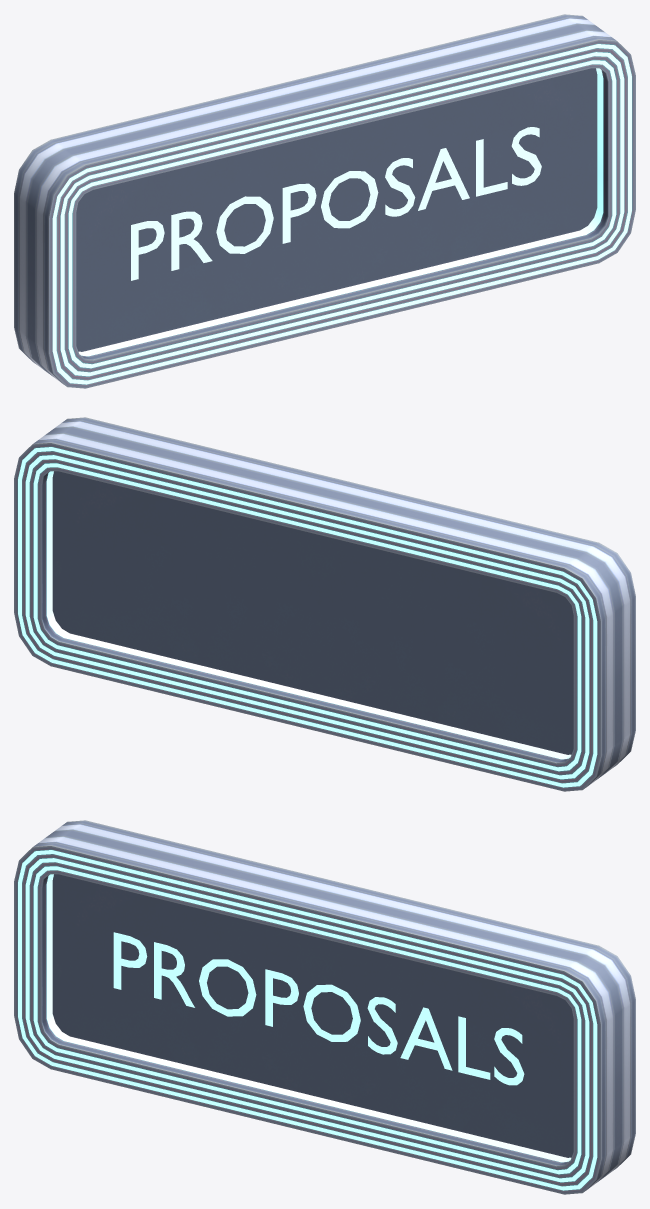
The model's file is obj_proposals.gltf.
The picture shows the model from 3 angles, top to bottom: view 1: azimuth 30°, elevation 25°; view 2: azimuth 150°, elevation 25°; view 3: azimuth 330°, elevation 25°; orthographic projection.
Parts seen in each view (by area): view 1: obj_proposals; view 2: obj_proposals; view 3: obj_proposals.
Boxes of the visible parts, x1=… form: obj_proposals: x1=14, y1=14, x2=635, y2=388; obj_proposals: x1=14, y1=417, x2=635, y2=791; obj_proposals: x1=14, y1=820, x2=635, y2=1194.
Size of what is drawn, in the model's own units: 4.27 by 1.55 by 0.439.
2 materials, 1 textured.
